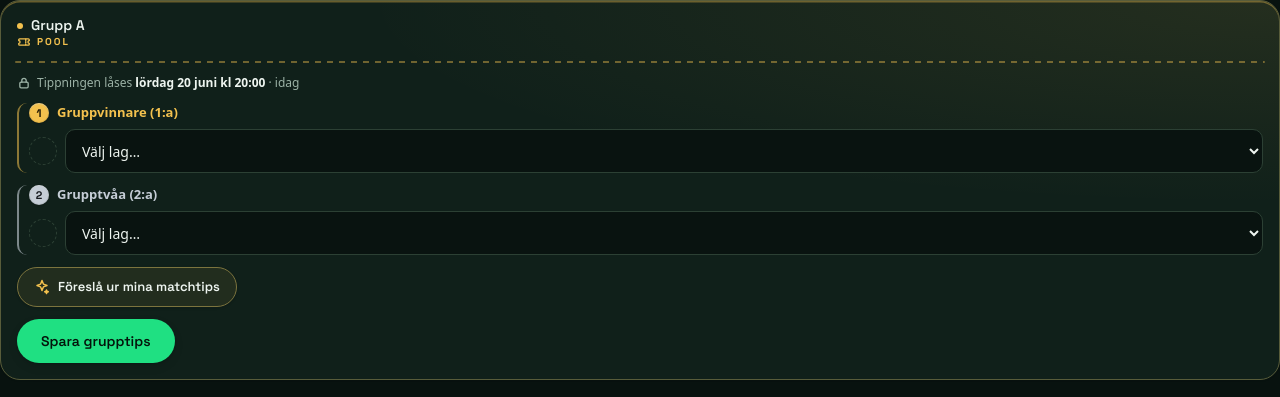
Test: GroupPredictionForm › OSPARAT: ett förslag (förifyllnad) räknas som osparad ändring tills man Sparar
Click the button "Föreslå ur mina matchtips" at {"x": 127, "y": 287}, box [17,267,237,307]
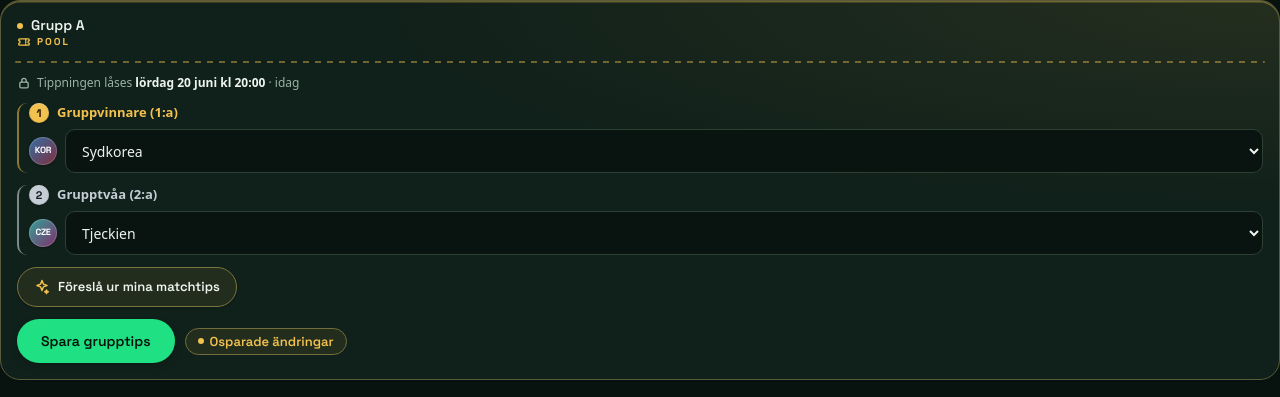
Now the text "Osparade ändringar" is shown, box [184,328,346,354]
